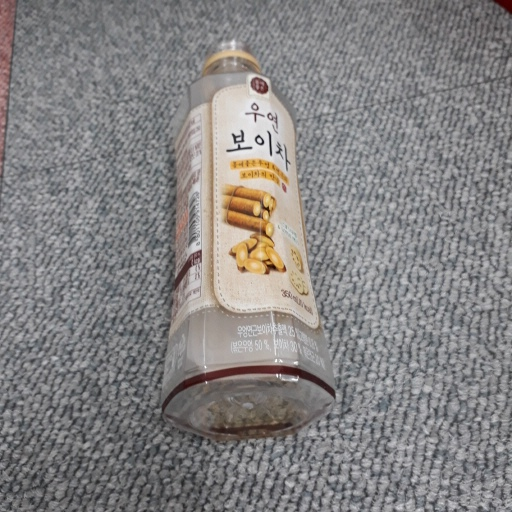Plastic_0: (157, 39, 337, 435)
